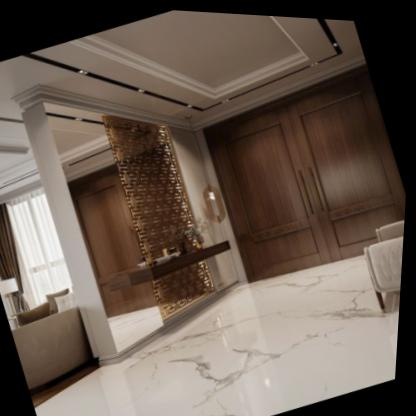Ceramic floor: (39, 249, 404, 416)
